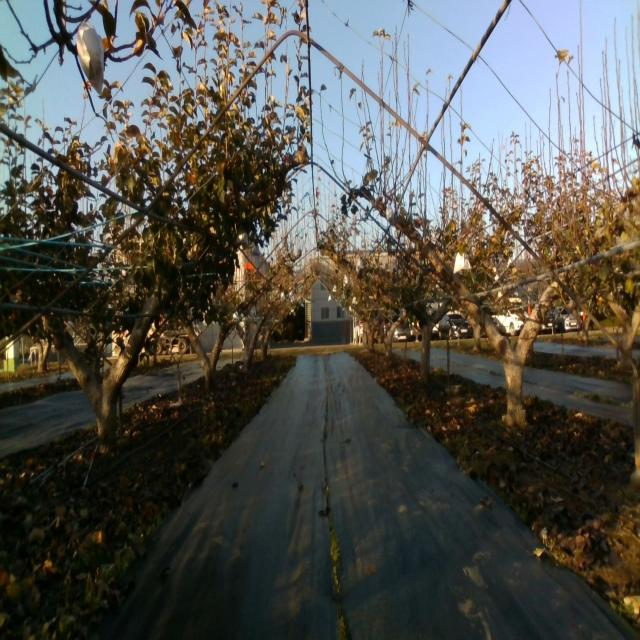pearbags: (77, 20, 104, 98), (452, 251, 472, 275), (235, 224, 249, 247), (386, 206, 396, 226)
